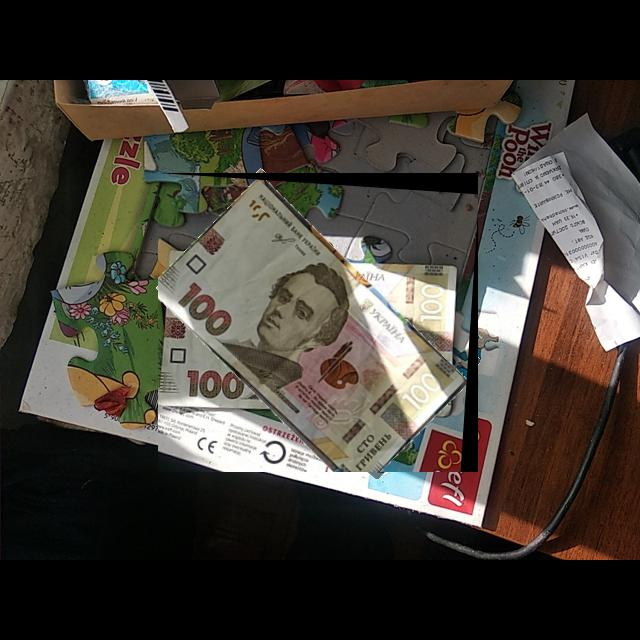100uah: (158, 179, 469, 473)
